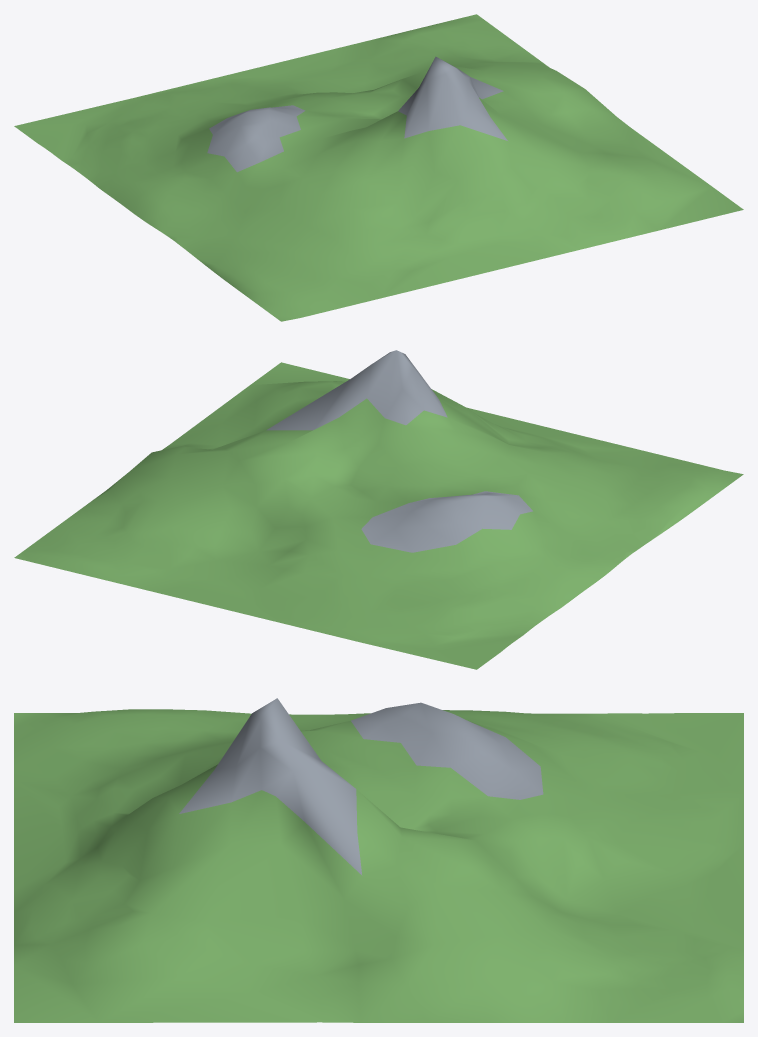
Rendered from SM_Mountains_11.obj.
The picture shows the model from 3 angles, top to bottom: view 1: azimuth 30°, elevation 25°; view 2: azimuth 150°, elevation 25°; view 3: azimuth 270°, elevation 25°; orthographic projection. The views are drawn at different scales.
Visible parts, largest first — view 1: SM_Mountains_11; view 2: SM_Mountains_11; view 3: SM_Mountains_11.
Part boxes in pixels (x1=…): SM_Mountains_11: x1=14, y1=14, x2=743, y2=321; SM_Mountains_11: x1=14, y1=350, x2=743, y2=669; SM_Mountains_11: x1=14, y1=698, x2=743, y2=1022.
Bounding box in the file's own units: 10.89 × 3.02 × 10.89.
Materials: 1 (1 with a texture image).
